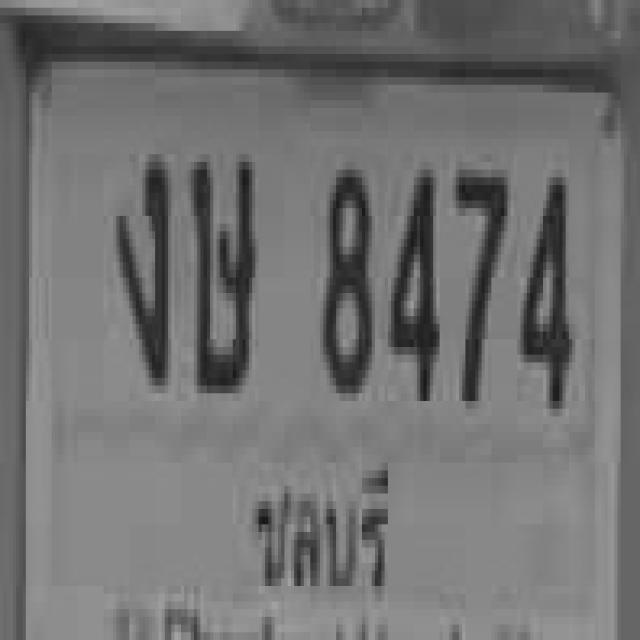16NgorNgu: (112, 146, 166, 378)
4: (517, 170, 569, 401), (388, 162, 436, 393)
48SorRueSi: (188, 147, 252, 386)
7: (453, 162, 504, 401)
8: (320, 162, 368, 385)
Chonburi: (244, 443, 398, 620)
